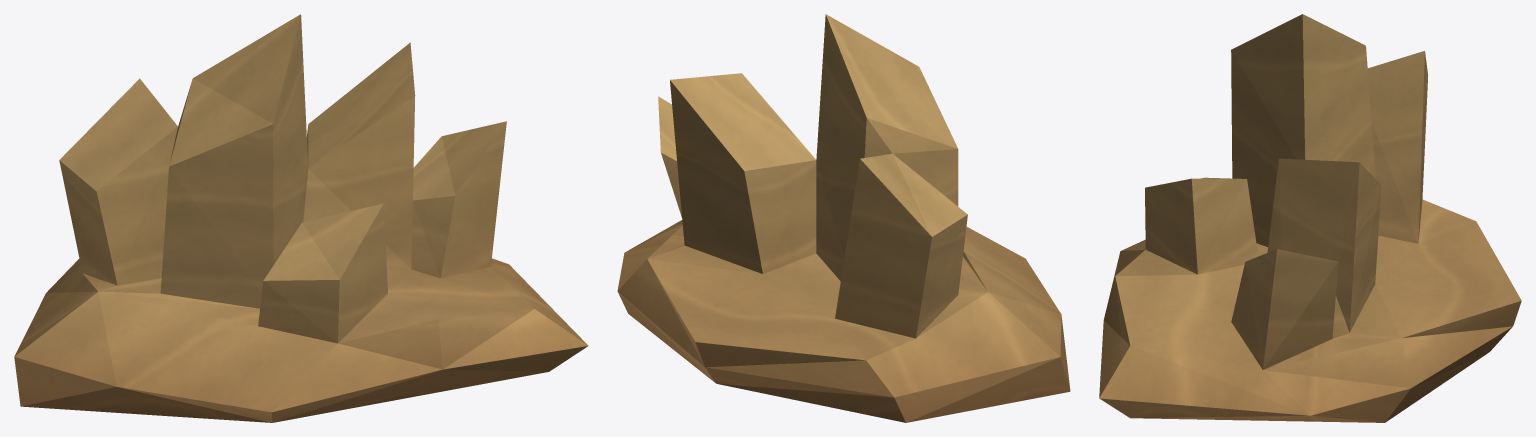
Rendered from crystal_calcite_steps.glb.
3 renders of one model, left to right at view 1: azimuth 30°, elevation 25°; view 2: azimuth 150°, elevation 25°; view 3: azimuth 270°, elevation 25°, orthographic. The views are drawn at different scales.
Visible parts, largest first — view 1: crystal_calcite_steps; view 2: crystal_calcite_steps; view 3: crystal_calcite_steps.
Part boxes in pixels (x1,y1,x2,y2): crystal_calcite_steps: [14, 14, 588, 422]; crystal_calcite_steps: [617, 14, 1070, 422]; crystal_calcite_steps: [1099, 14, 1521, 422].
Bounding box in the file's own units: 1.43 × 0.94 × 1.1.
1 material, 1 textured.
